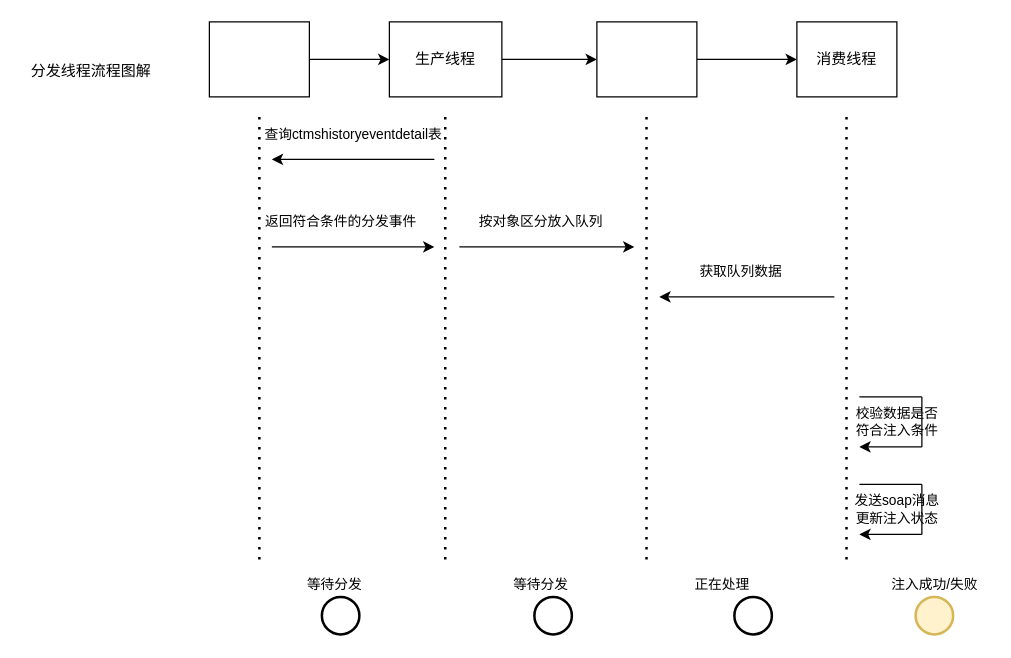
Image size: 1011x658. Some labels were removed from this diagram. Each missing label, with the box of its shape:
db: (208, 21, 309, 97)
任务队列: (596, 21, 697, 97)
